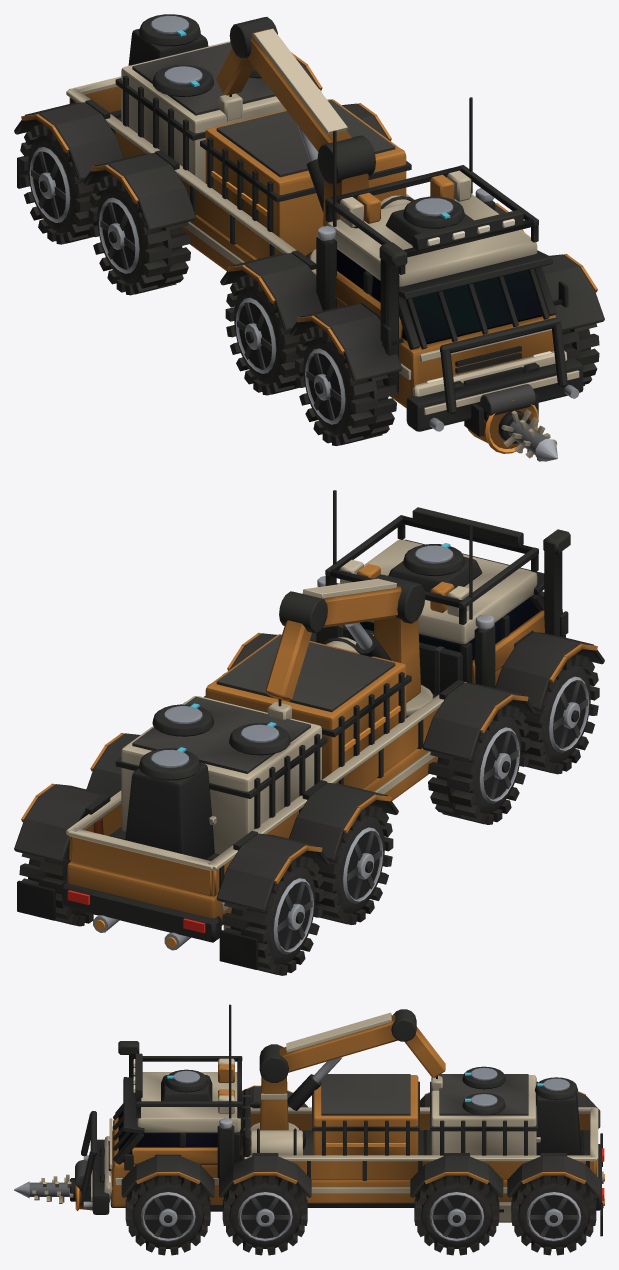
File: ex_rover_8.glb
The picture shows the model from 3 angles, top to bottom: view 1: azimuth 30°, elevation 25°; view 2: azimuth 150°, elevation 25°; view 3: azimuth 270°, elevation 25°; orthographic projection. The views are drawn at different scales.
Parts seen in each view (by area): view 1: body, wheel_5, wheel_1, wheel_7, wheel_3, drill, wheel_0; view 2: body, wheel_3, wheel_7, wheel_5, wheel_1, wheel_6; view 3: body, wheel_4, wheel_6, wheel_0, wheel_2, drill.
Boxes of the visible parts, x1,y1,x2,y2 form: body: [14, 14, 604, 453]; wheel_5: [88, 175, 190, 295]; wheel_1: [295, 325, 396, 445]; wheel_7: [19, 124, 97, 244]; wheel_3: [225, 275, 303, 395]; drill: [498, 409, 557, 461]; wheel_0: [562, 323, 599, 385]; body: [14, 490, 604, 969]; wheel_3: [428, 704, 530, 824]; wheel_7: [222, 855, 323, 975]; wheel_5: [315, 805, 393, 924]; wheel_1: [521, 654, 599, 774]; wheel_6: [19, 813, 98, 926]; body: [75, 1004, 604, 1236]; wheel_4: [414, 1175, 499, 1255]; wheel_6: [511, 1175, 596, 1255]; wheel_0: [125, 1175, 210, 1255]; wheel_2: [222, 1175, 307, 1255]; drill: [14, 1174, 75, 1203].
Bounding box in the file's own units: 6.09 × 6.13 × 17.18.
